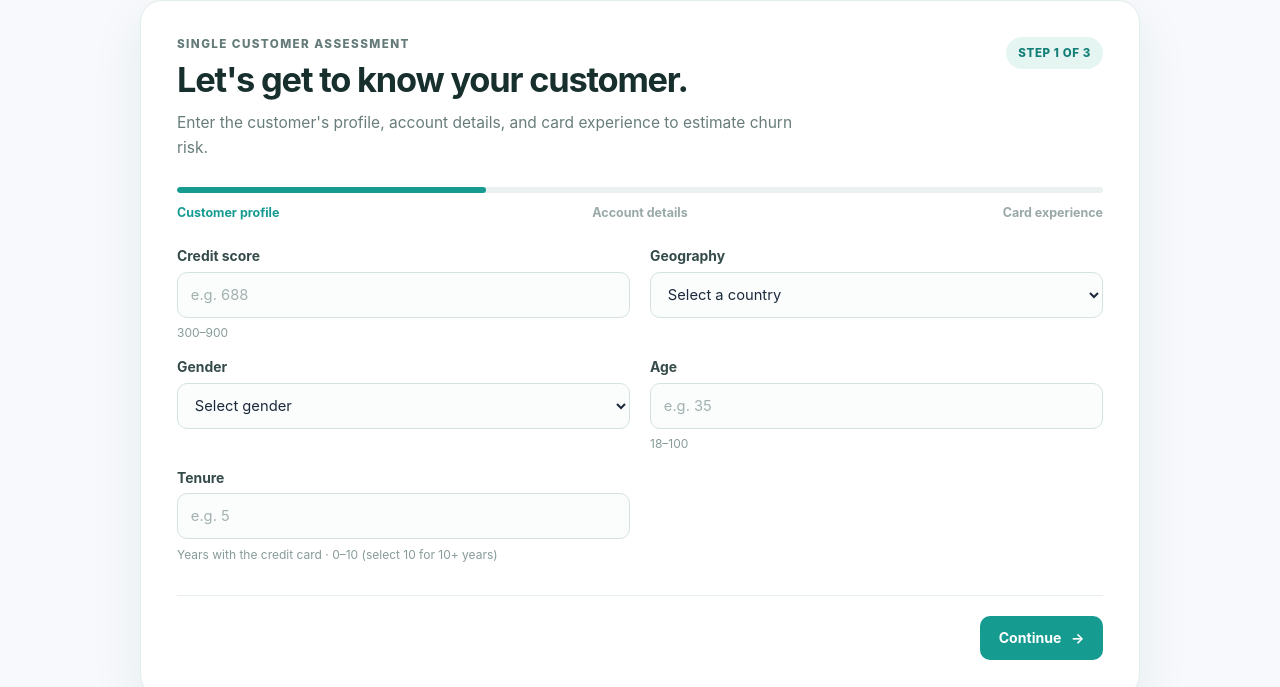
Test: CustomerQuiz › shows required-field errors and does not advance when step 1 is empty
Step 1. Click the button "Continue →" → (1042, 638), box [980,616,1103,660]
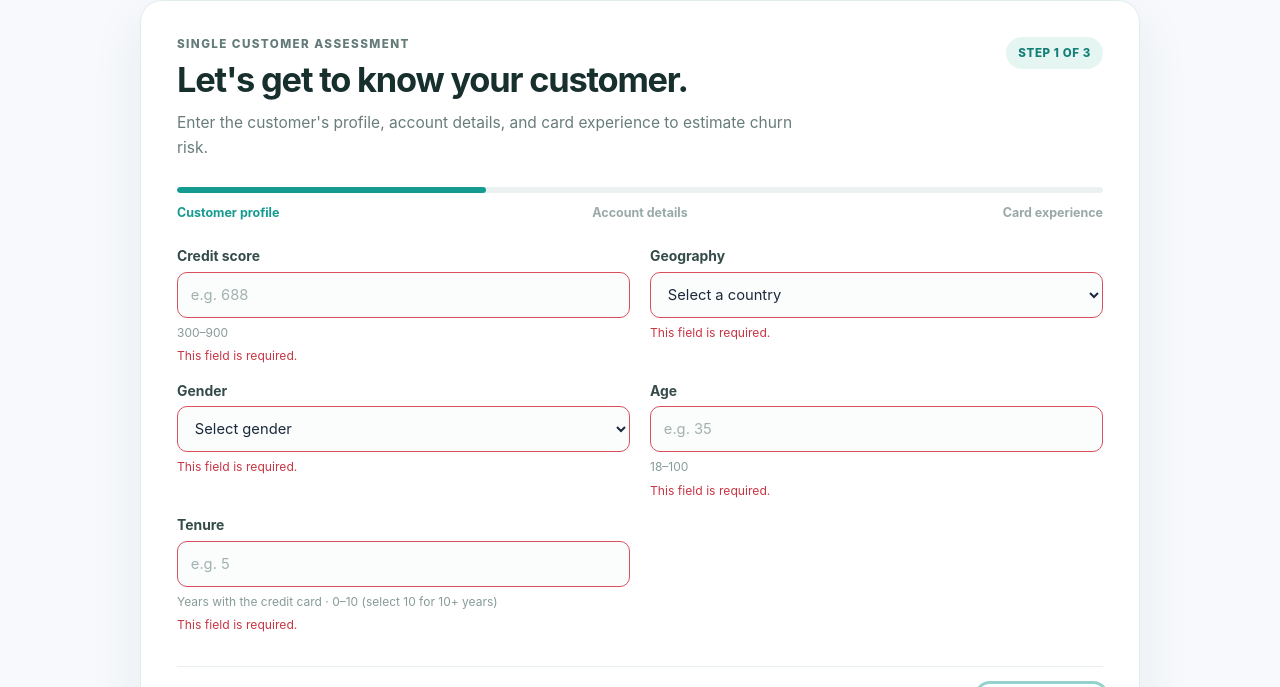
Expected: the text "STEP 1 OF 3" is shown, [1006,37,1103,69]
Expected: the text "This field is required." is shown 5 times, [177,348,297,363]; [650,325,770,340]; [177,459,297,474]; [650,483,770,498]; [177,617,297,632]
